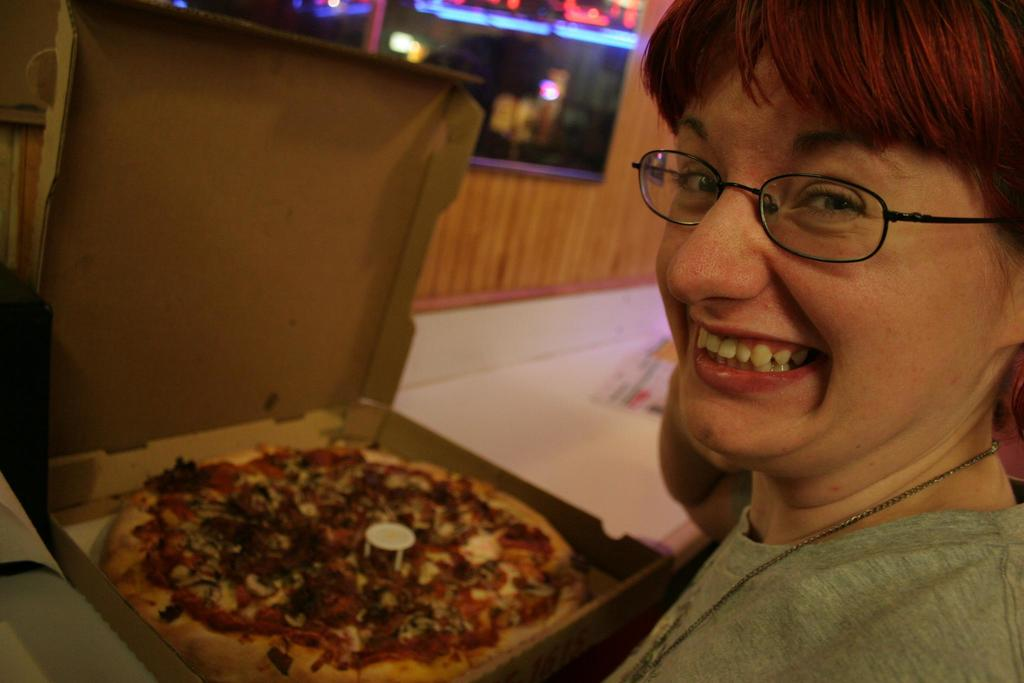Pizza: (90, 424, 620, 675)
